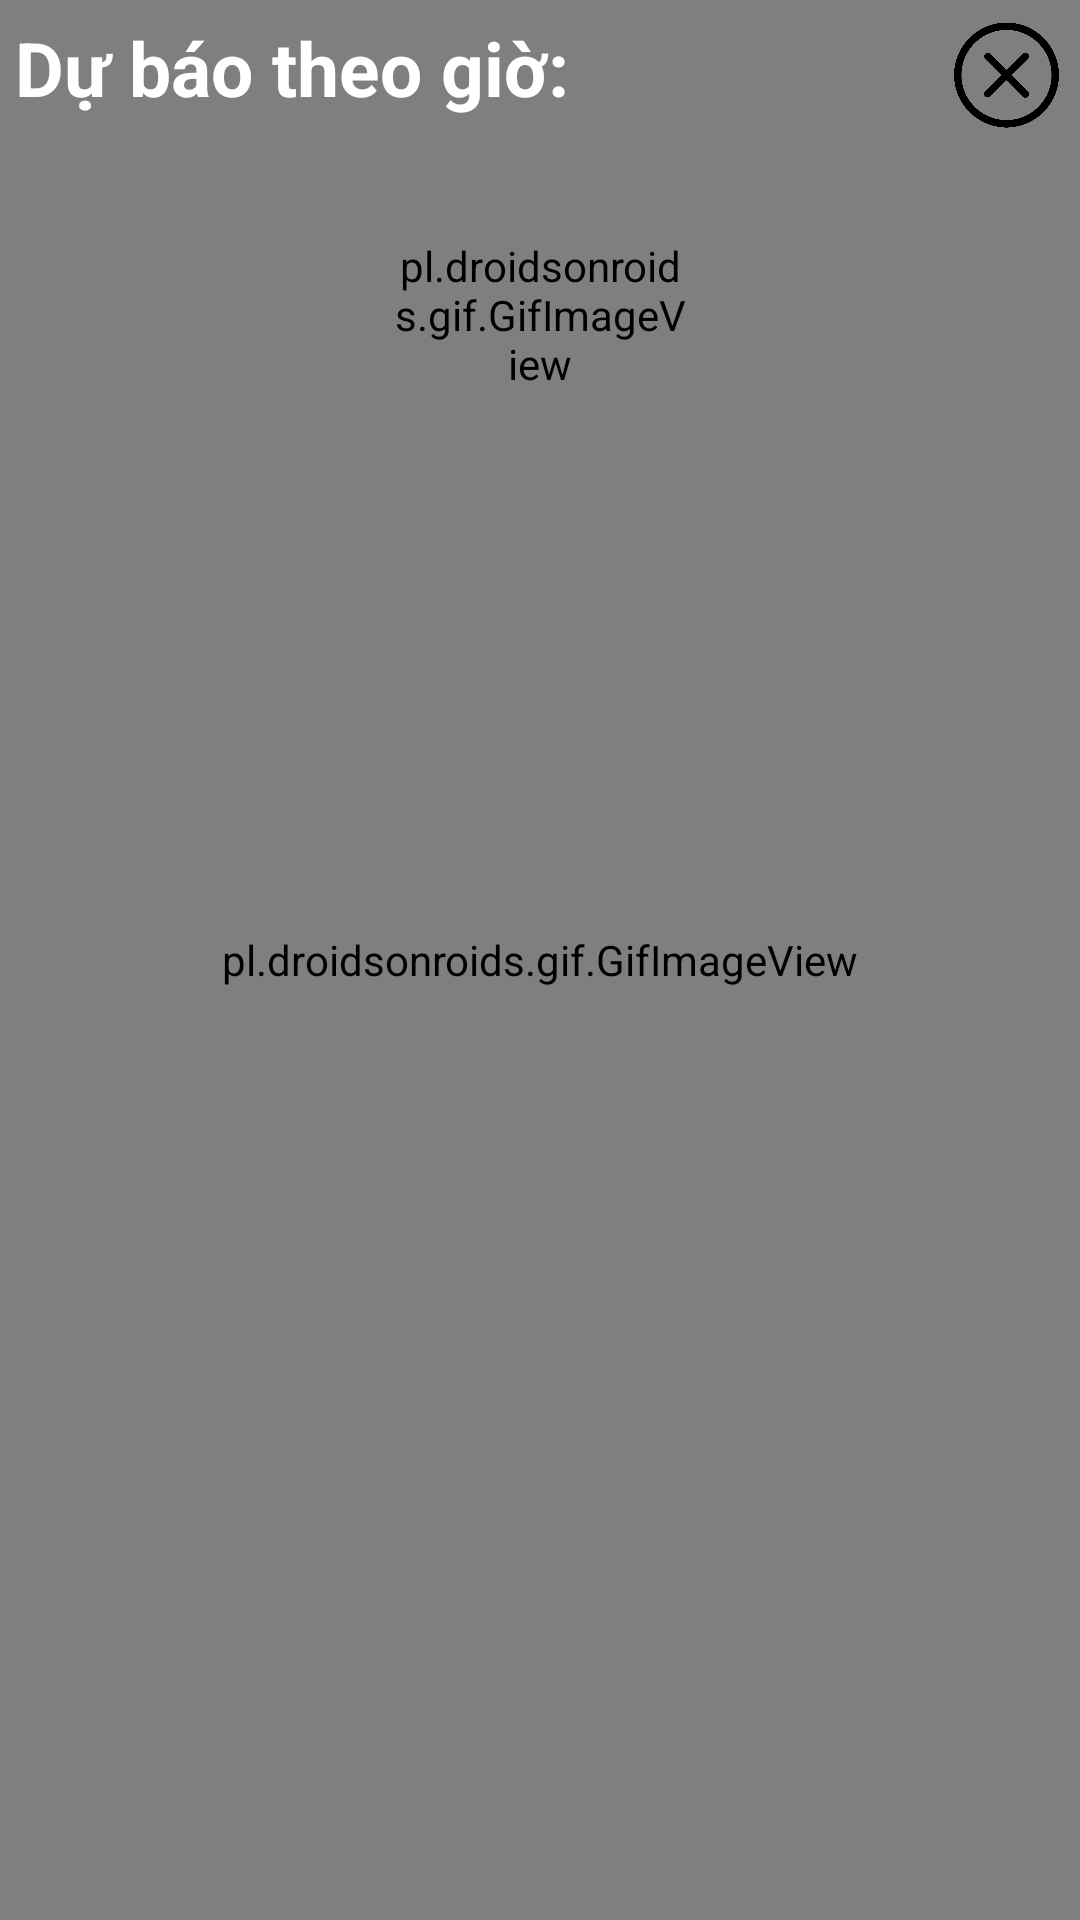

Screen size 1080x1920. Icon name, then its center in pixels as point (x, y):
close: point (1006, 75)
